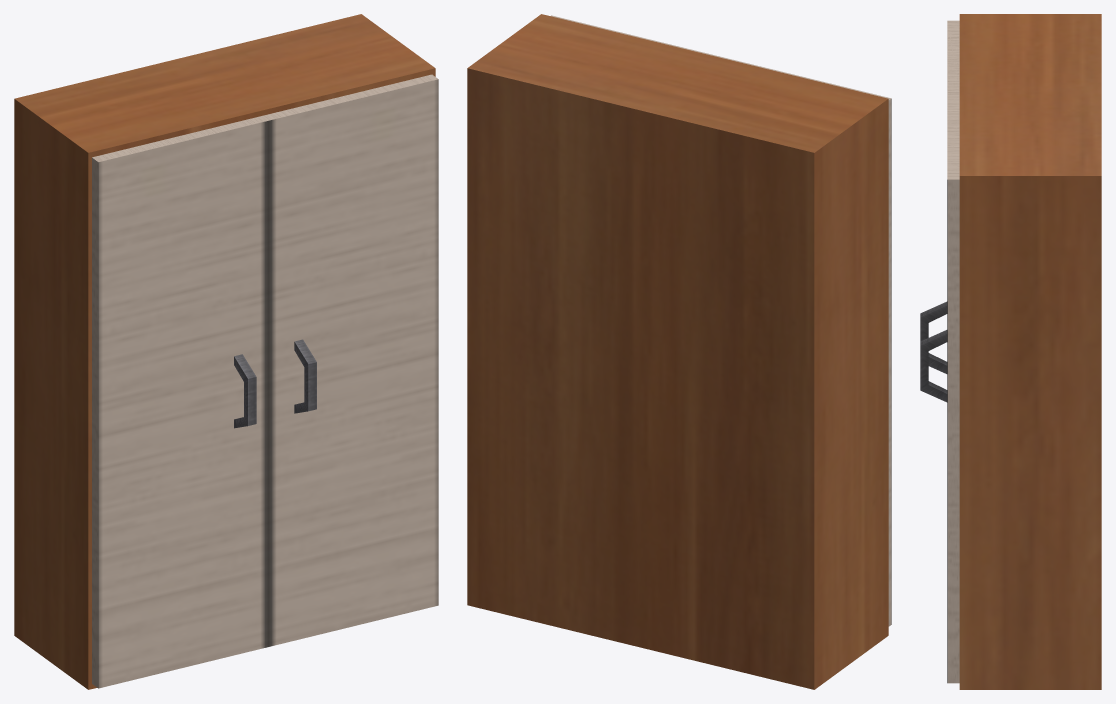
Rendered from WardRobe_1A.fbx.
3 views of the same model, side by side, from view 1: azimuth 30°, elevation 25°; view 2: azimuth 150°, elevation 25°; view 3: azimuth 270°, elevation 25° (orthographic). The views are drawn at different scales.
Parts seen in each view (by area): view 1: polySurface1506; view 2: polySurface1506; view 3: polySurface1506.
Part boxes in pixels (<box>): polySurface1506: <box>14,14,438,689</box>; polySurface1506: <box>467,14,891,689</box>; polySurface1506: <box>920,14,1101,689</box>.
Size of the model in its own units: 2.3 by 3.4 by 1.09.
